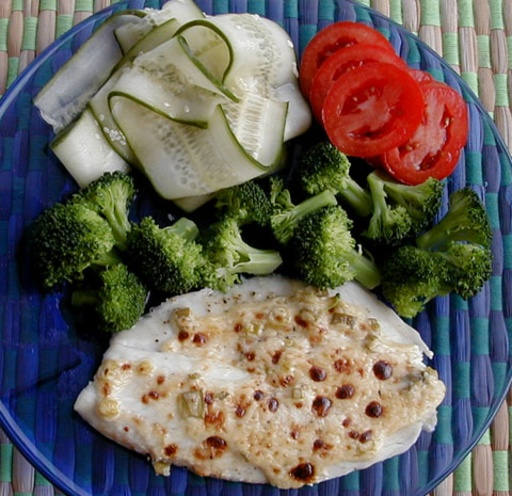background: (20, 1, 395, 380)
